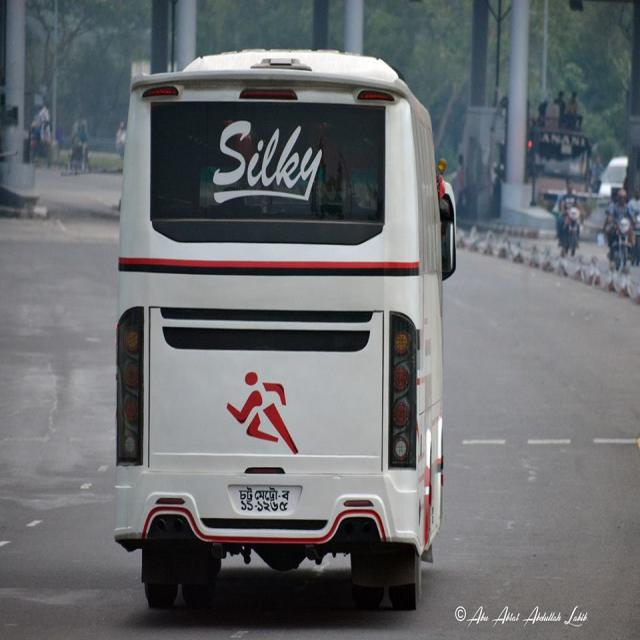bus: (113, 49, 458, 612)
